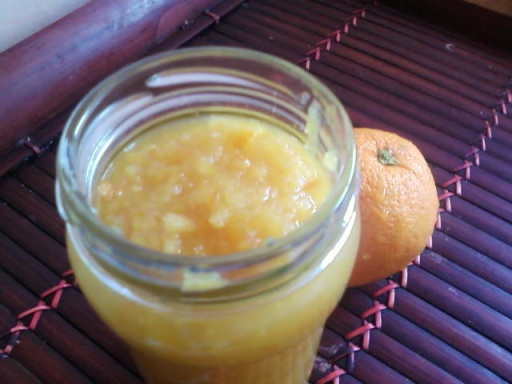background: (53, 66, 350, 230)
